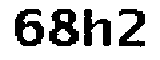2: (115, 8, 148, 52)
6: (12, 7, 46, 50)
8: (46, 7, 81, 49)
h: (81, 7, 114, 51)
